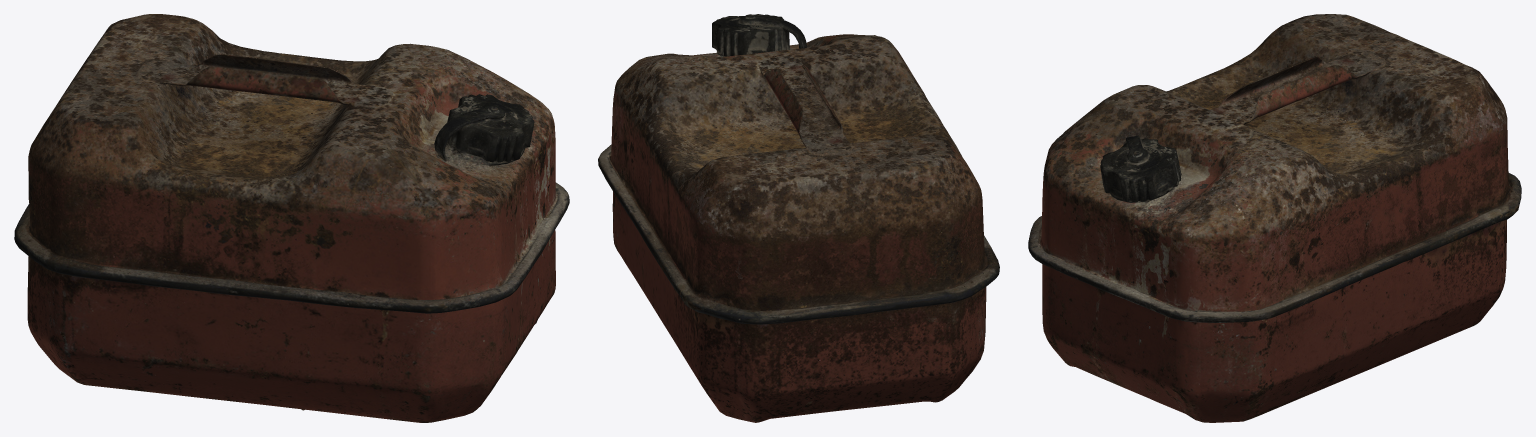
The model's file is rusty_jerrycan_-_3d_scan_quixel_megascans.glb.
The picture shows the model from 3 angles, left to right: view 1: azimuth 30°, elevation 25°; view 2: azimuth 150°, elevation 25°; view 3: azimuth 270°, elevation 25°; orthographic projection. The views are drawn at different scales.
Visible parts, largest first — view 1: Object_2; view 2: Object_2; view 3: Object_2.
Part boxes in pixels (left/top/right/bottom): Object_2: left=14, top=14, right=569, bottom=422; Object_2: left=598, top=14, right=999, bottom=422; Object_2: left=1028, top=14, right=1521, bottom=422.
Size of the model in its own units: 0.3879 by 0.2264 by 0.391.
Materials: 1 (1 with a texture image).
